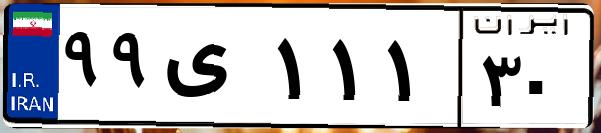0: (525, 38, 570, 115)
1: (270, 28, 330, 110), (385, 28, 445, 110), (330, 28, 385, 110)
3: (475, 38, 525, 113)
9: (57, 26, 110, 100), (110, 28, 158, 98)
ی: (158, 20, 270, 120)
